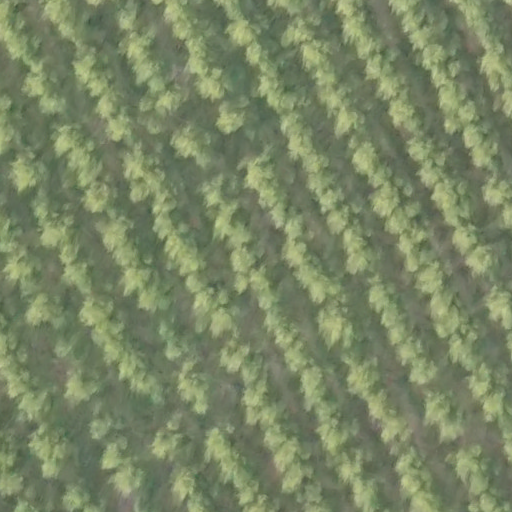eucalipto: (292, 359, 342, 410), (31, 425, 74, 475), (179, 366, 220, 416), (428, 289, 471, 336), (172, 120, 216, 165), (163, 231, 210, 273), (445, 440, 489, 483), (28, 287, 66, 332), (464, 233, 500, 280), (65, 366, 106, 406), (98, 210, 136, 252), (216, 94, 254, 133), (244, 154, 284, 191), (94, 432, 133, 469), (407, 130, 448, 165), (160, 319, 195, 359), (480, 383, 511, 428), (184, 37, 219, 76), (376, 408, 412, 445), (60, 261, 98, 296), (334, 101, 369, 139), (384, 201, 424, 234), (230, 240, 266, 276), (450, 218, 486, 254), (22, 387, 57, 424), (420, 387, 458, 421), (385, 93, 421, 128), (346, 359, 382, 394), (122, 260, 157, 296), (416, 159, 454, 192), (349, 140, 381, 179), (89, 404, 125, 437), (436, 408, 467, 446), (362, 386, 397, 419), (371, 181, 407, 213), (220, 334, 251, 370), (282, 16, 318, 47), (120, 28, 155, 59), (227, 18, 263, 48), (107, 106, 136, 141), (57, 118, 84, 154), (385, 318, 419, 346), (460, 121, 494, 149), (87, 70, 113, 100)
eucalitpo: (316, 300, 366, 347), (294, 257, 343, 303), (145, 70, 189, 121), (444, 327, 487, 377), (437, 83, 481, 128), (150, 418, 196, 461), (316, 407, 362, 448), (10, 147, 50, 192), (393, 450, 436, 490), (330, 447, 374, 486), (283, 111, 321, 156), (76, 179, 120, 217), (70, 137, 105, 184), (4, 249, 42, 291), (76, 294, 117, 332), (23, 59, 61, 100), (273, 208, 313, 246), (39, 214, 79, 252), (170, 462, 212, 498), (201, 173, 240, 211), (364, 275, 401, 315), (269, 430, 307, 468), (239, 372, 278, 409), (406, 355, 443, 391), (327, 200, 363, 236), (204, 424, 240, 460), (366, 48, 400, 84), (59, 479, 96, 512), (279, 461, 316, 494), (341, 11, 377, 44), (109, 467, 146, 498), (1, 215, 27, 252)
